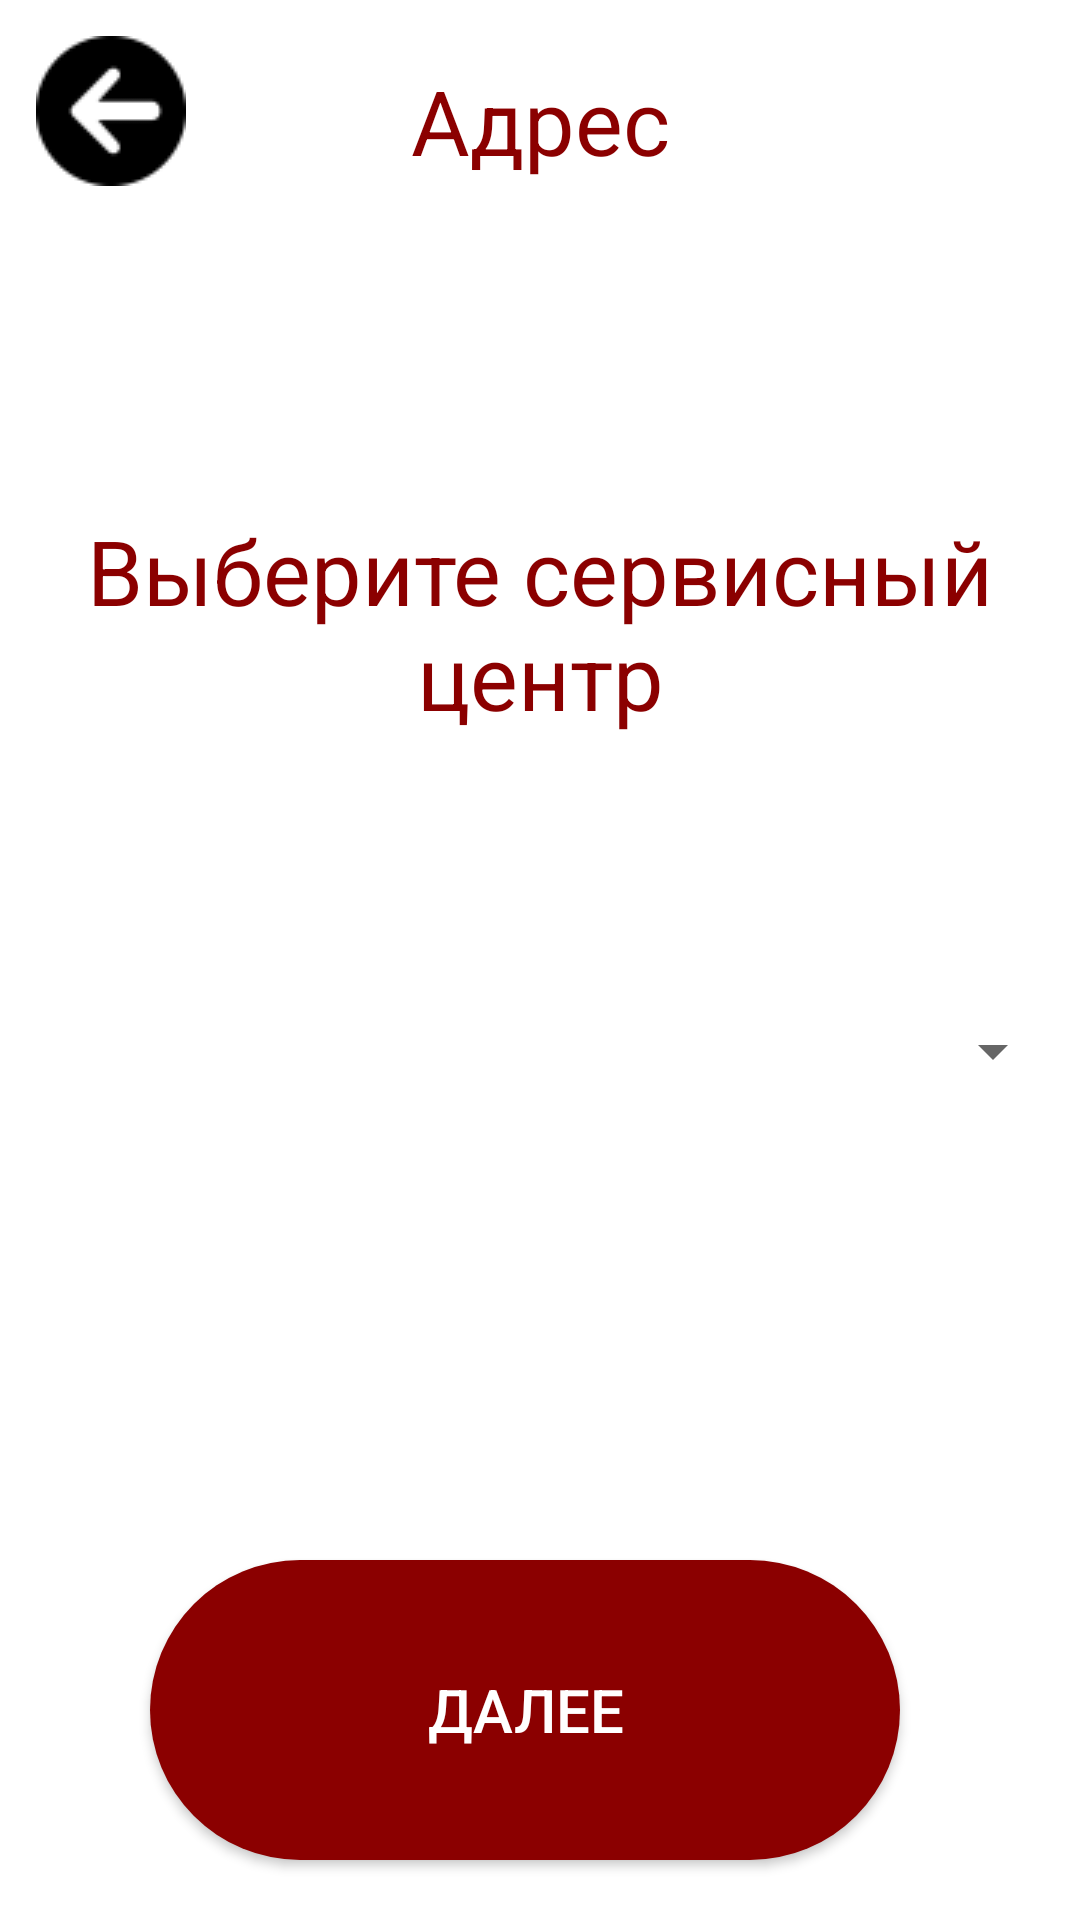

Screen size 1080px×1920px. Icon name, then its center in pixels as [x,y]:
back: [111,111]
